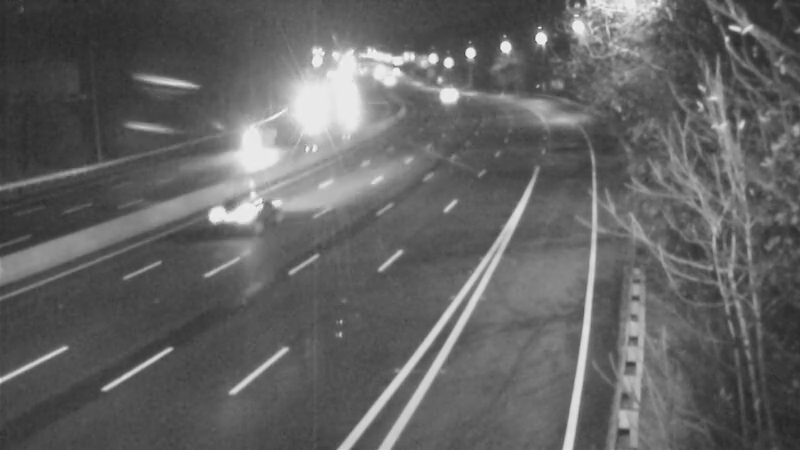vehicle: (200, 168, 280, 248), (417, 67, 467, 117), (217, 116, 267, 166), (287, 87, 337, 137)
